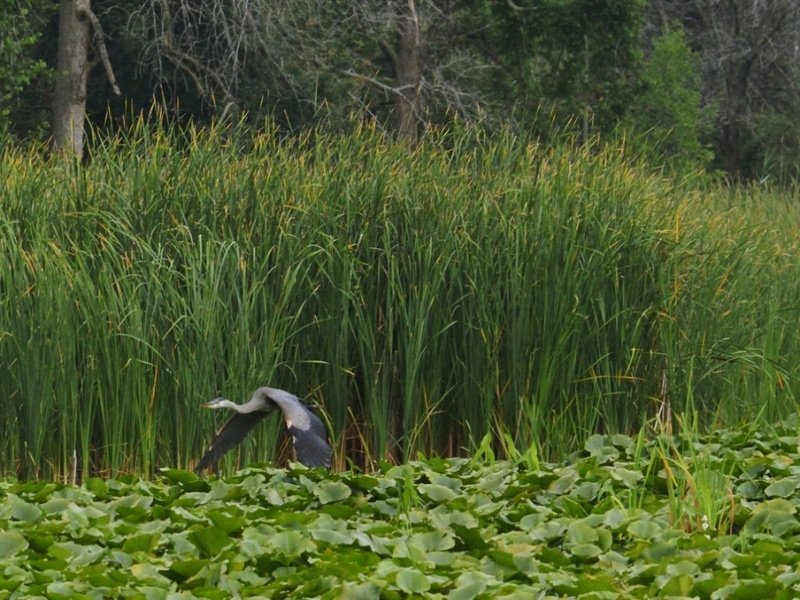heron: (194, 382, 334, 479)
